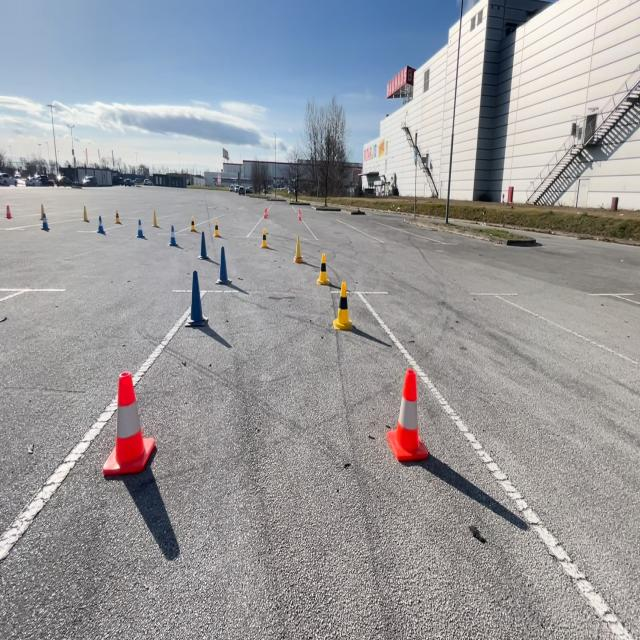blue_cone: (184, 269, 208, 327), (215, 243, 231, 286), (197, 229, 210, 260), (39, 202, 50, 231), (168, 223, 179, 248), (134, 217, 146, 239), (96, 213, 105, 234)
orange_cone: (101, 370, 153, 478), (386, 366, 430, 464), (4, 202, 12, 219), (262, 206, 269, 218), (297, 206, 302, 221)
yellow_cone: (330, 279, 353, 330), (315, 250, 331, 286), (292, 232, 304, 263), (258, 227, 270, 250), (151, 208, 160, 228), (82, 204, 91, 222), (189, 214, 198, 232), (212, 218, 220, 238), (114, 207, 122, 224)
